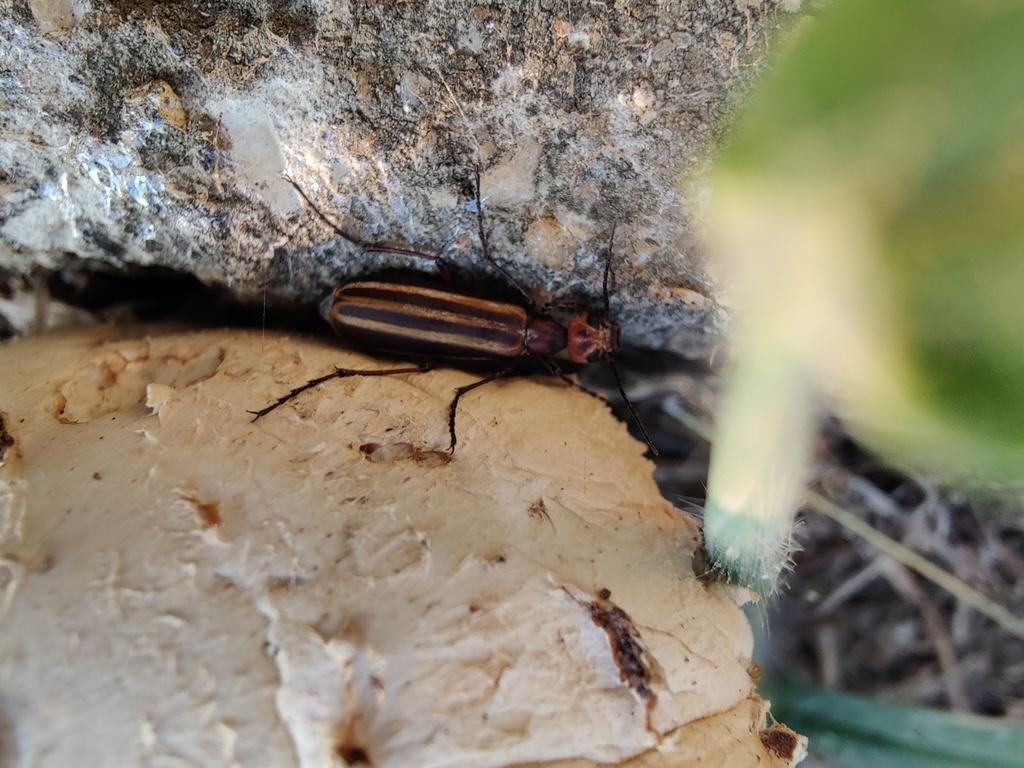blister_beetle: (206, 135, 682, 503)
